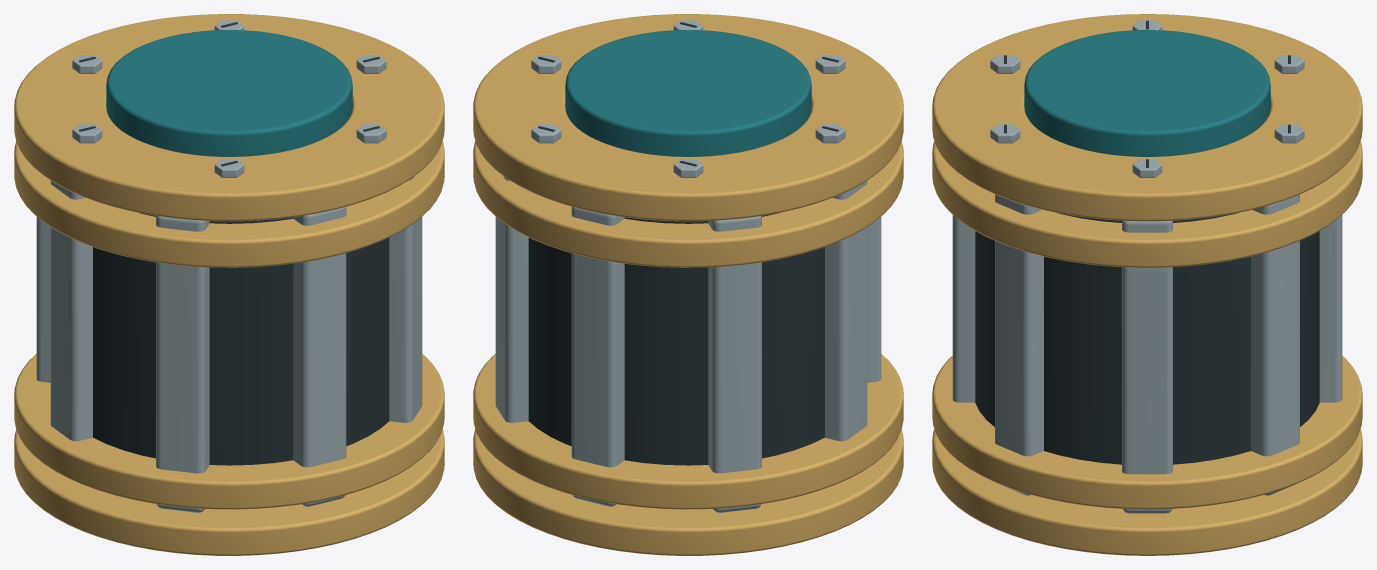
Rendered from SM_VCore.fbx.
The picture shows the model from 3 angles, left to right: view 1: azimuth 30°, elevation 25°; view 2: azimuth 150°, elevation 25°; view 3: azimuth 270°, elevation 25°; orthographic projection.
Parts seen in each view (by area): view 1: SM_VCore; view 2: SM_VCore; view 3: SM_VCore.
Boxes of the visible parts, x1,y1,x2,y2 form: SM_VCore: (14,14,444,555); SM_VCore: (473,14,903,555); SM_VCore: (932,14,1362,555).
Bounding box in the file's own units: 42 × 42 × 41.5.
